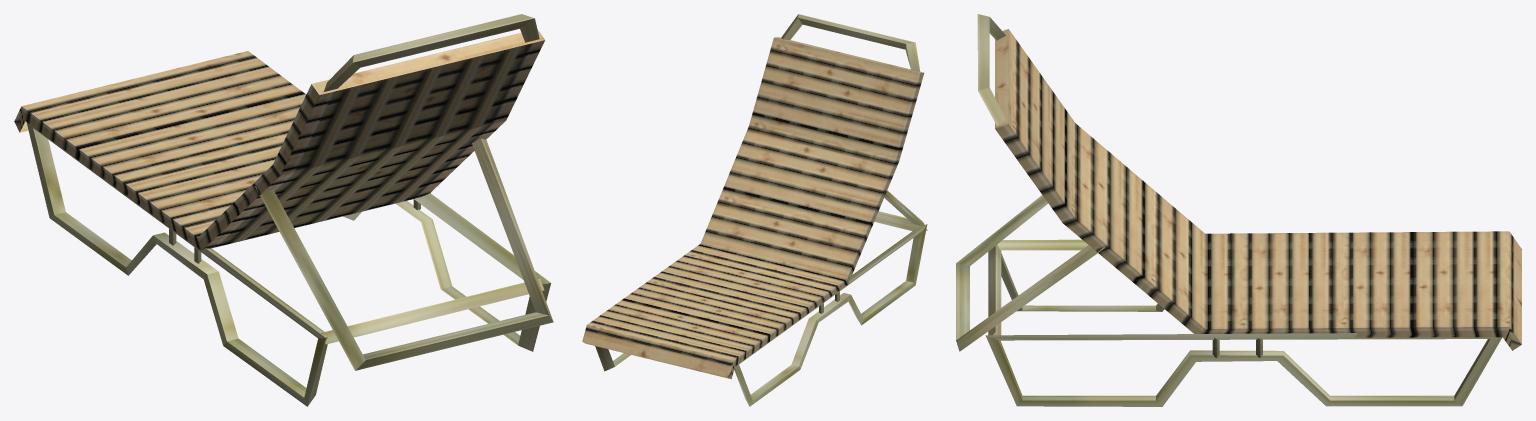
File: BeachChair.FBX
3 renders of one model, left to right at view 1: azimuth 30°, elevation 25°; view 2: azimuth 150°, elevation 25°; view 3: azimuth 270°, elevation 25°, orthographic. The views are drawn at different scales.
Visible parts, largest first — view 1: BeachChair; view 2: BeachChair; view 3: BeachChair.
Part boxes in pixels (x1=…): BeachChair: x1=14, y1=14, x2=553, y2=406; BeachChair: x1=582, y1=14, x2=927, y2=406; BeachChair: x1=956, y1=14, x2=1521, y2=406.
Size of the model in its own units: 131 by 193 by 322.
Materials: 1 (1 with a texture image).
